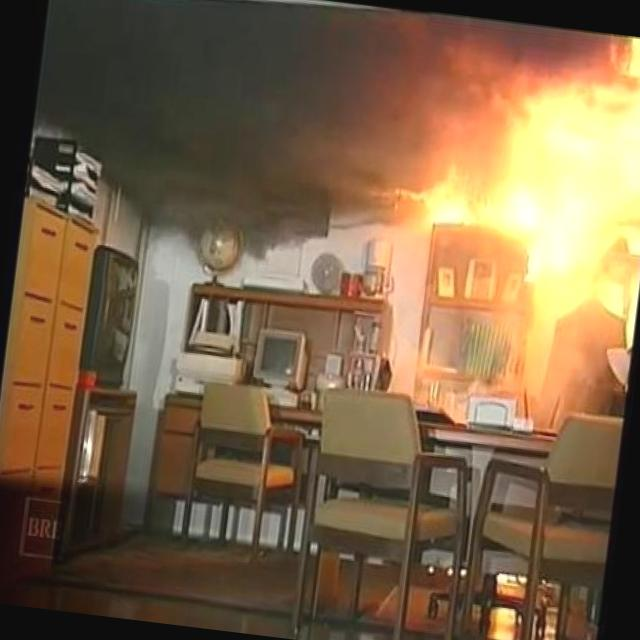fire: (435, 20, 640, 231)
smoke: (26, 0, 420, 229)
